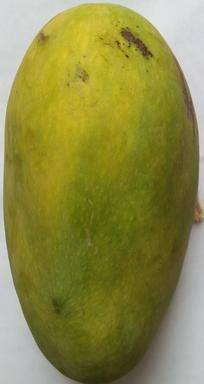PartiallyRipe: (1, 1, 204, 384)
